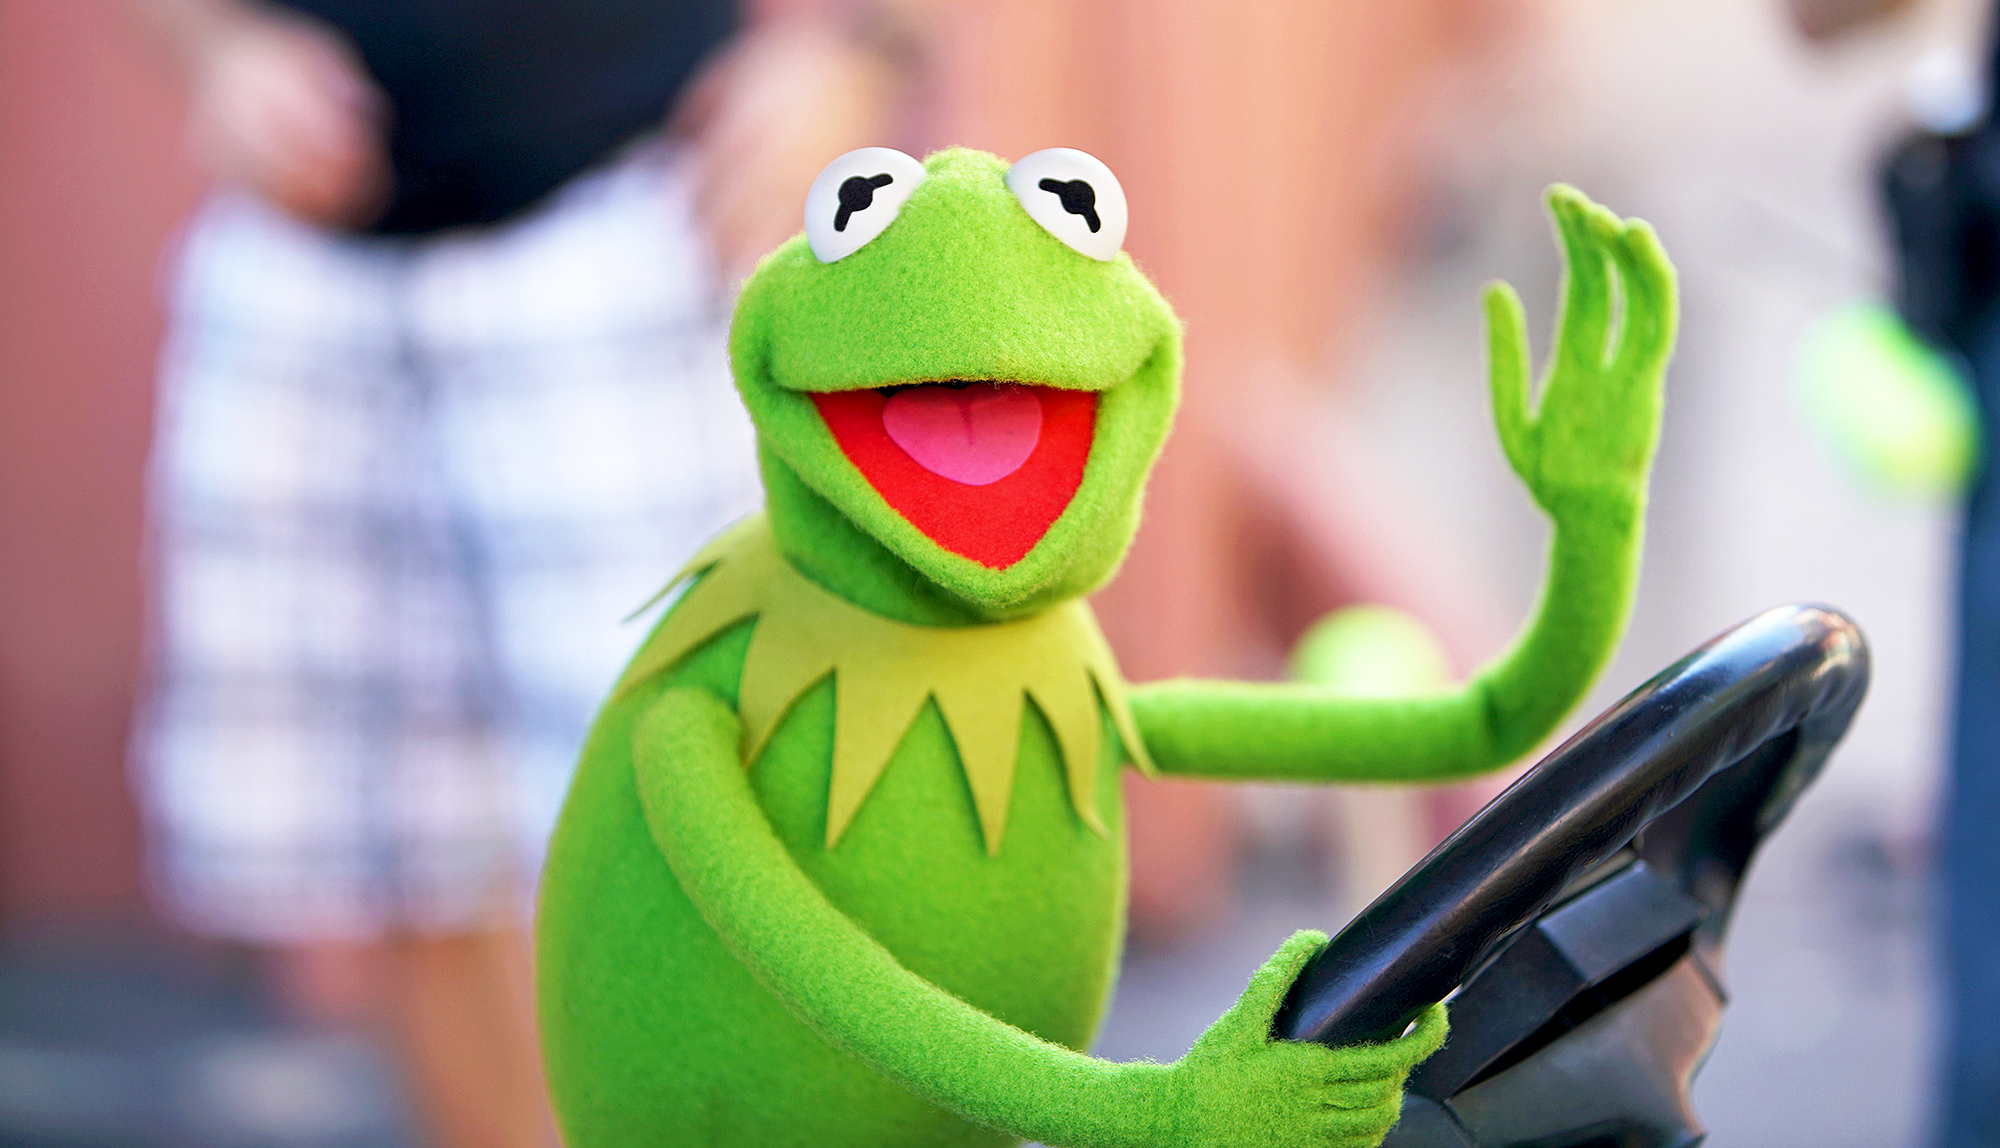kermit: (709, 124, 1207, 658)
